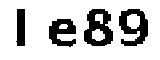8: (81, 5, 116, 52)
9: (117, 6, 149, 50)
e: (45, 15, 78, 51)
l: (9, 4, 31, 55)
